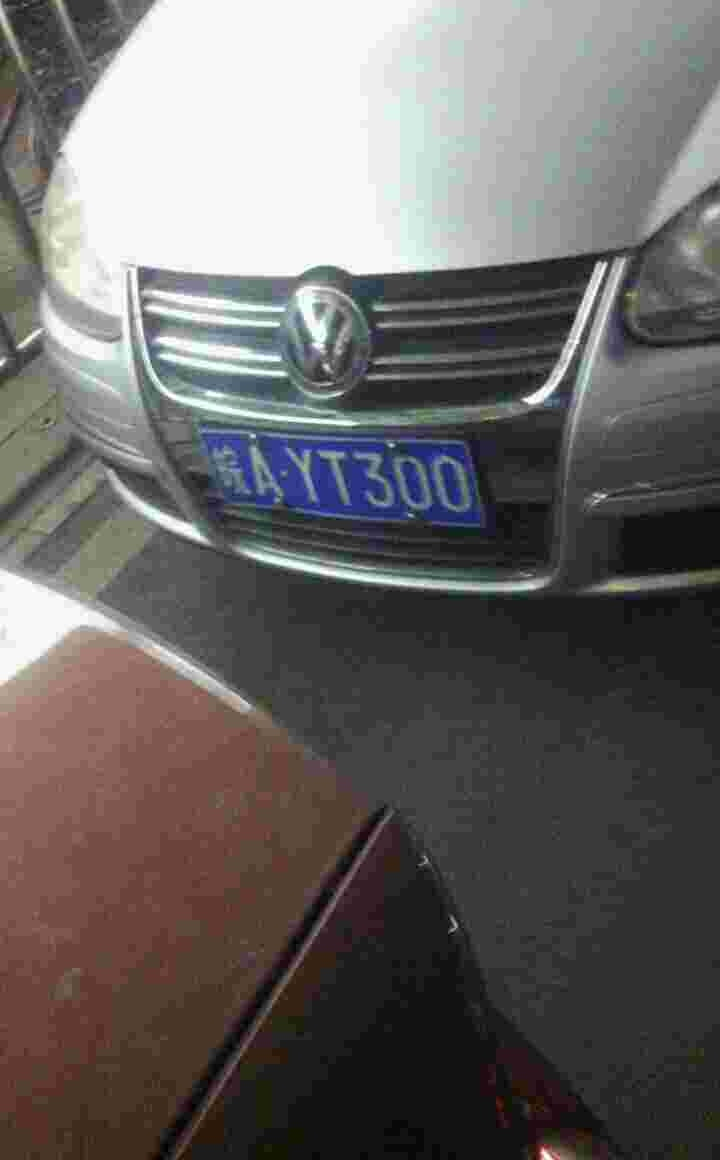license_plate: (204, 420, 489, 530)
